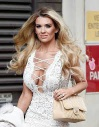female: (30, 11, 65, 48)
